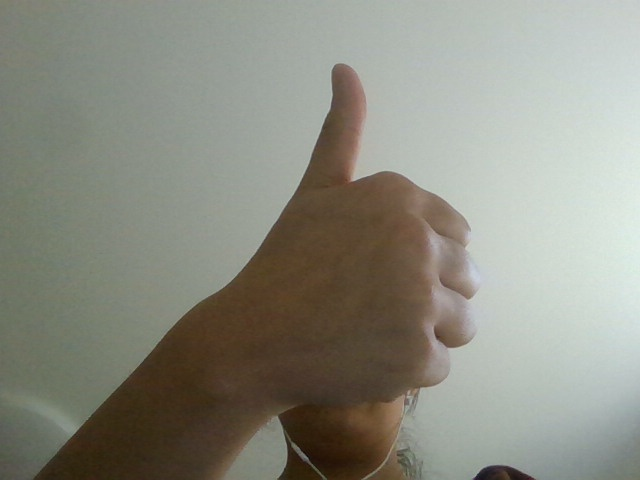Thumbs up: (221, 58, 480, 413)
